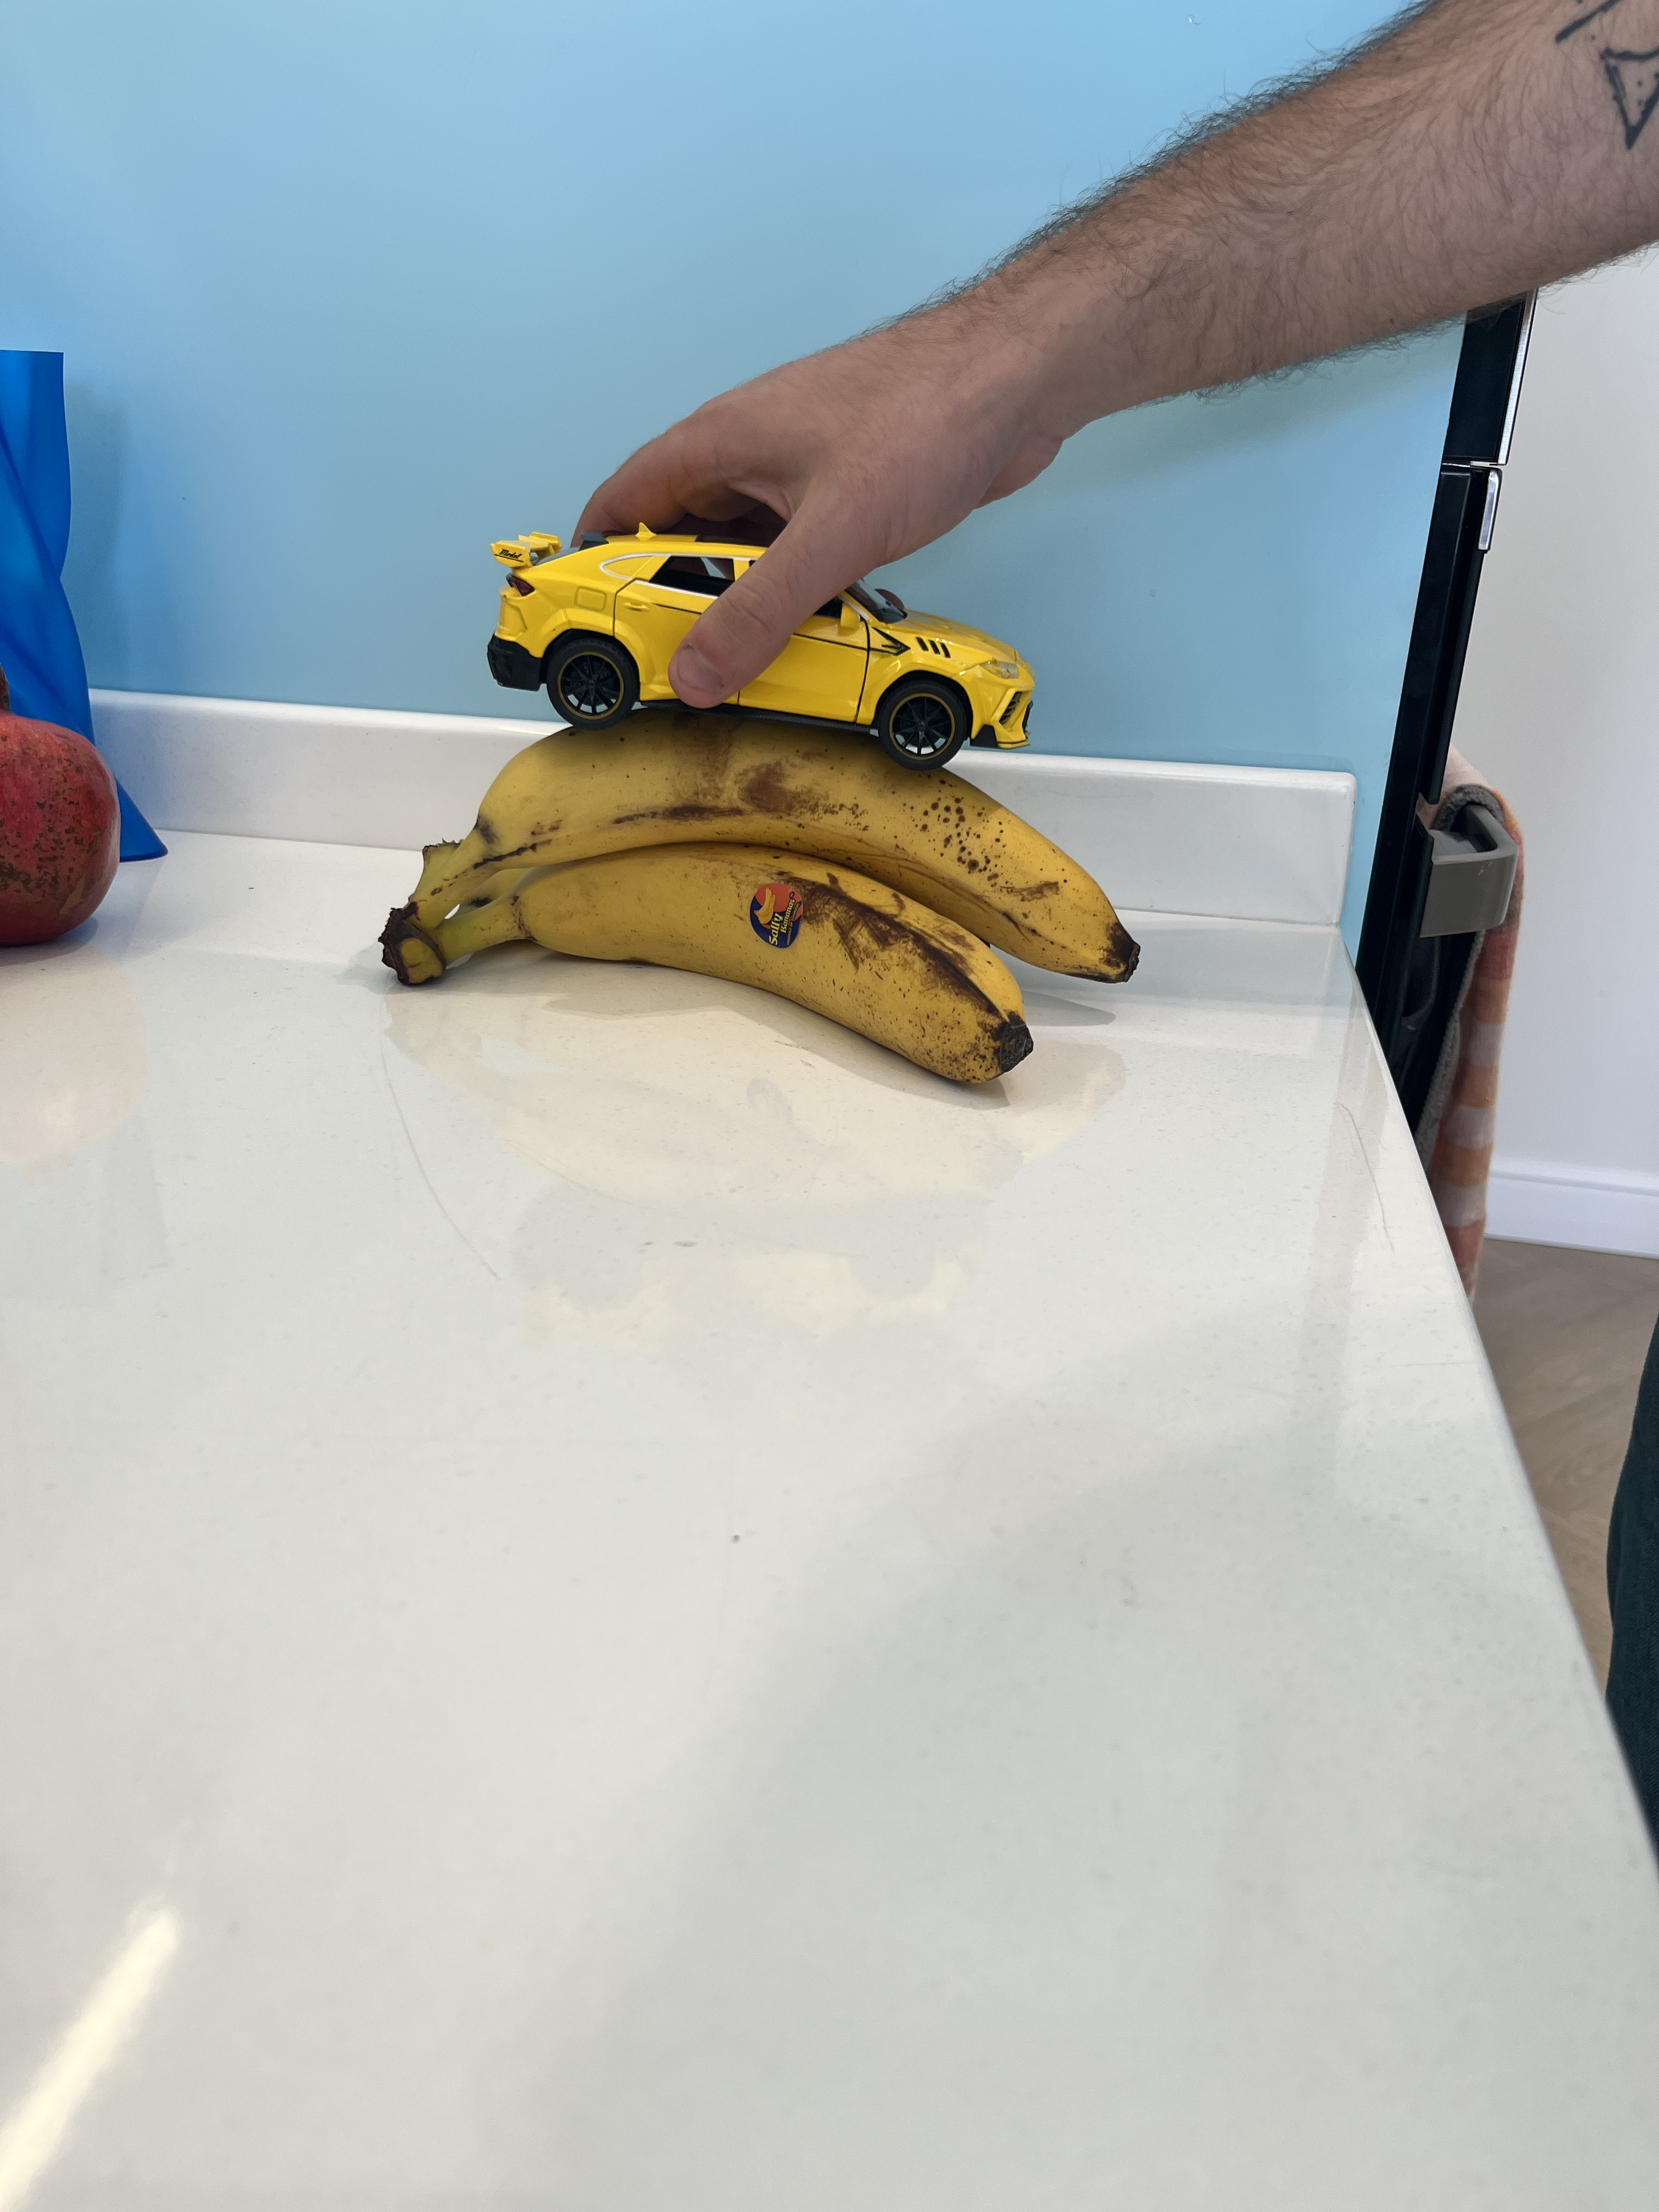lambo: (465, 503, 1047, 777)
